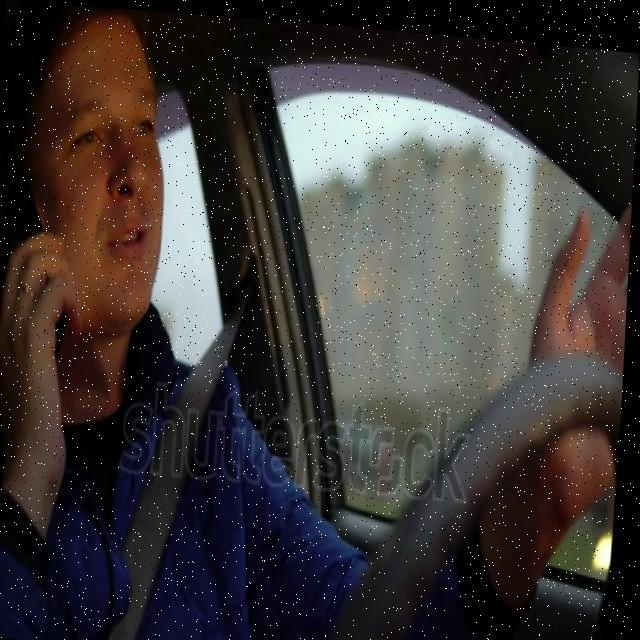PhoneCall: (0, 149, 75, 372)
